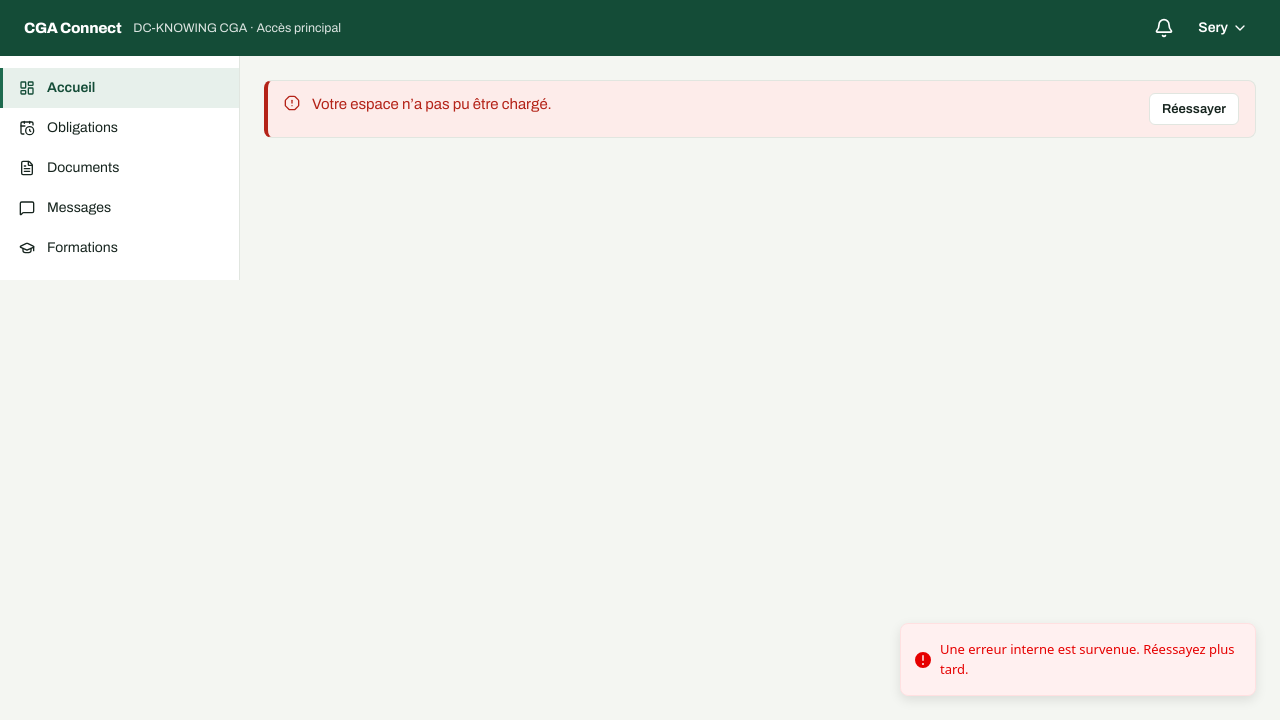
Test: /adherent/accueil · accueil de l’adhérent (2.11) › panne : bandeau et « Réessayer »
This screenshot has width=1280, height=720.
Expected: the text "Votre espace n’a pas pu être chargé." is shown, x1=312 y1=96 x2=552 y2=112
Click the button "Réessayer": (1194, 109) x1=1149 y1=93 x2=1239 y2=125
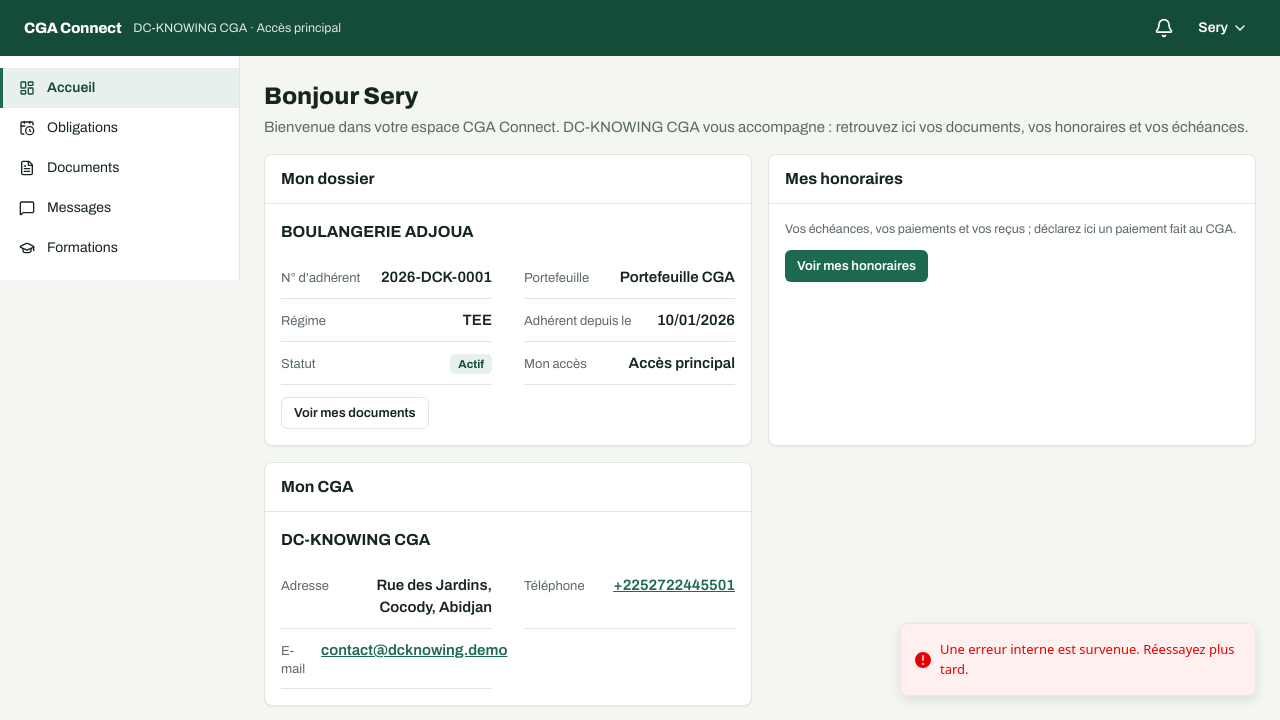
Result: the text "BOULANGERIE ADJOUA" is shown at x1=281 y1=223 x2=474 y2=240
